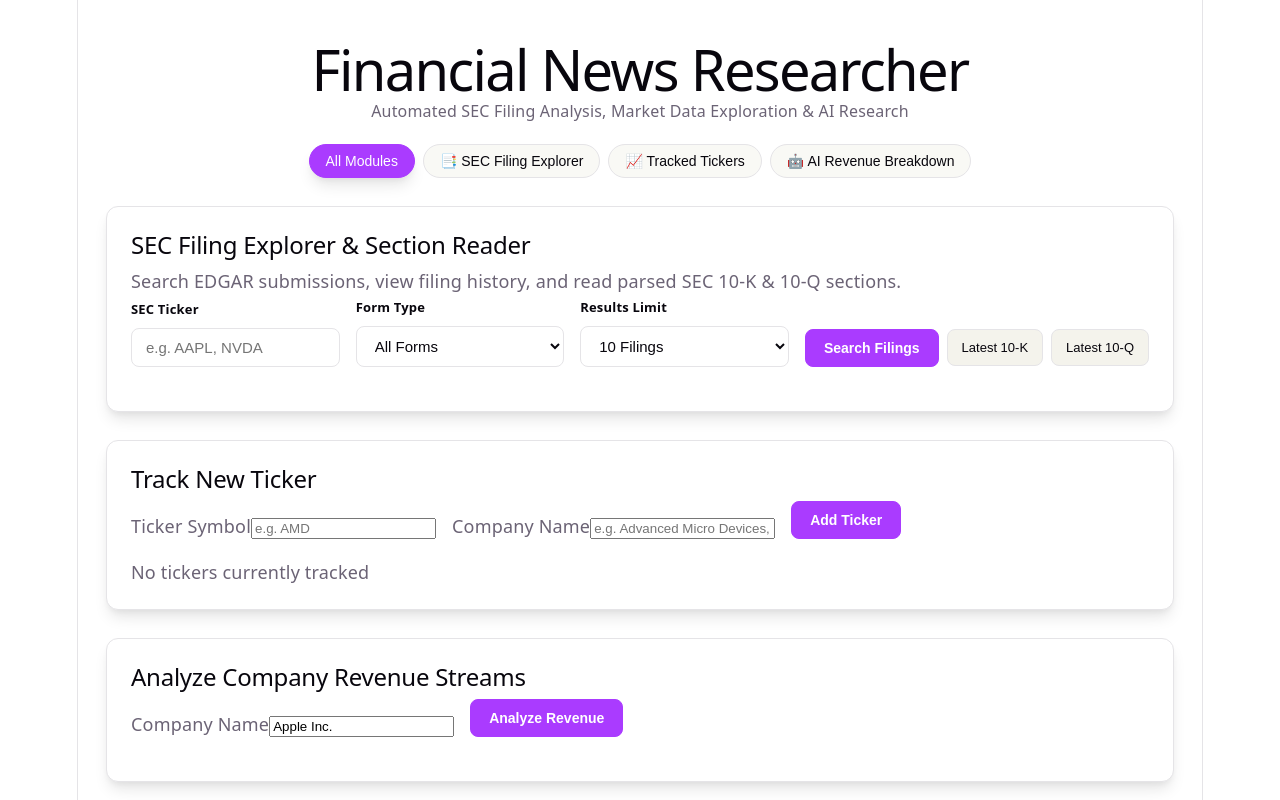
it: App Component Integration Tests › displays error in revenue research section if revenue analysis fails
Click the button "Analyze Revenue" at (547, 718), box [470, 699, 623, 737]
(page scrolled)
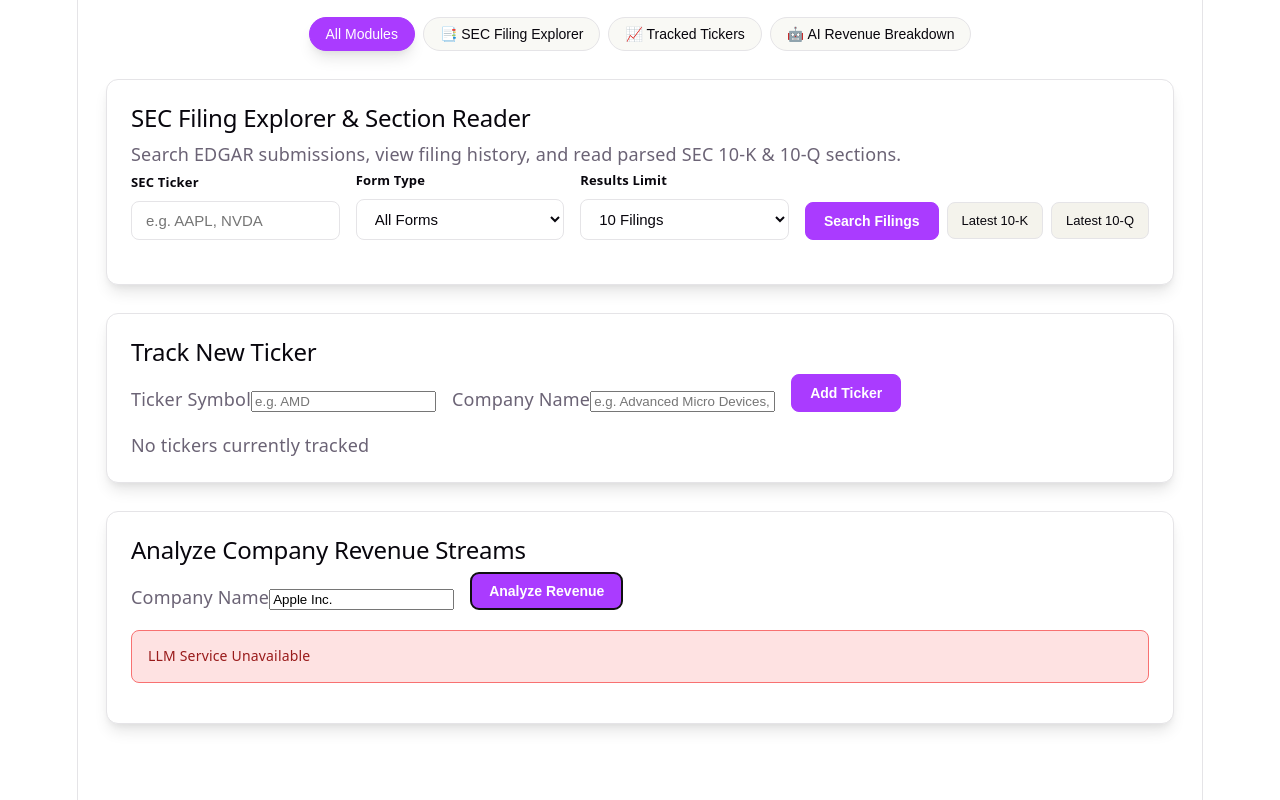
Now the text "LLM Service Unavailable" is shown, box [131, 630, 1149, 682]
